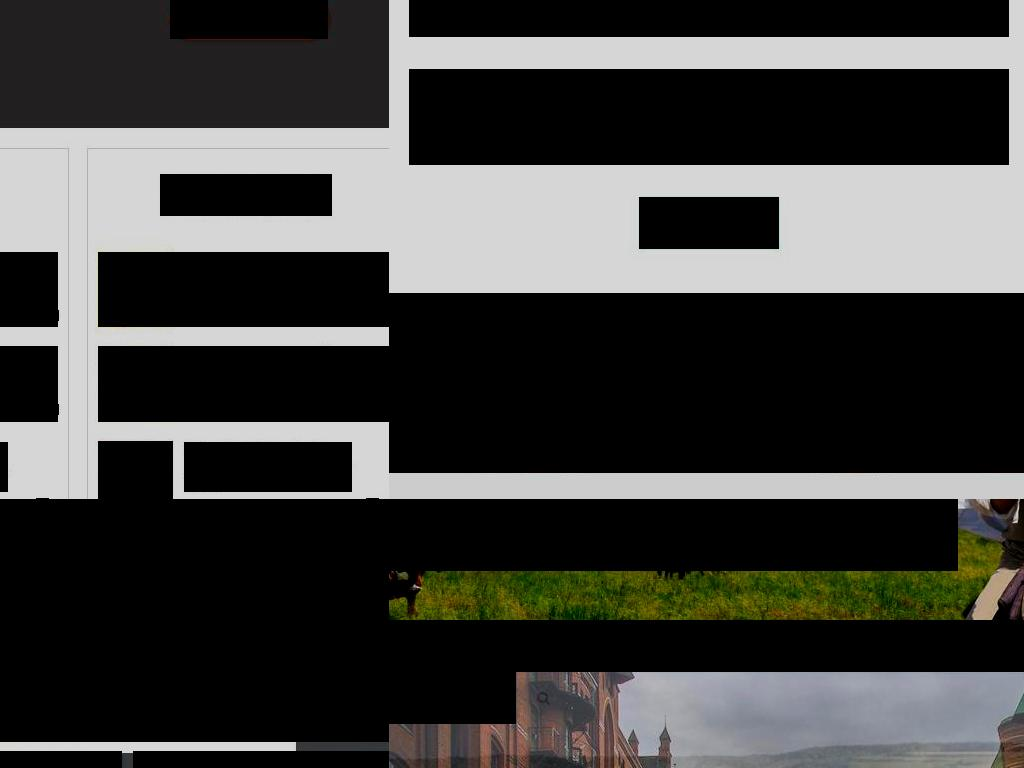button: (0, 499, 389, 742), (389, 499, 958, 571), (0, 524, 261, 572), (553, 620, 745, 672), (744, 620, 913, 672), (389, 620, 554, 672), (639, 197, 779, 249), (389, 672, 516, 724), (170, 0, 328, 39), (912, 620, 1024, 672)
heading: (184, 442, 352, 492), (184, 253, 353, 302), (184, 347, 341, 397)
image: (389, 293, 1024, 473), (0, 499, 389, 742), (389, 499, 958, 571), (98, 346, 389, 422), (98, 252, 389, 327), (160, 174, 332, 216), (98, 441, 173, 499), (31, 309, 44, 322), (31, 403, 44, 416), (366, 309, 379, 322), (366, 403, 379, 416)
link: (0, 703, 201, 719)
text: (409, 69, 1009, 165), (409, 0, 1009, 37), (389, 635, 1024, 657), (592, 635, 708, 657), (779, 635, 891, 657), (0, 499, 261, 508), (392, 687, 495, 709), (657, 213, 761, 233), (951, 635, 1024, 657), (199, 313, 294, 326), (198, 407, 288, 420), (184, 313, 200, 326), (184, 407, 199, 420), (389, 687, 397, 707), (48, 310, 59, 321), (48, 404, 59, 415), (383, 310, 389, 321), (383, 404, 389, 415)
